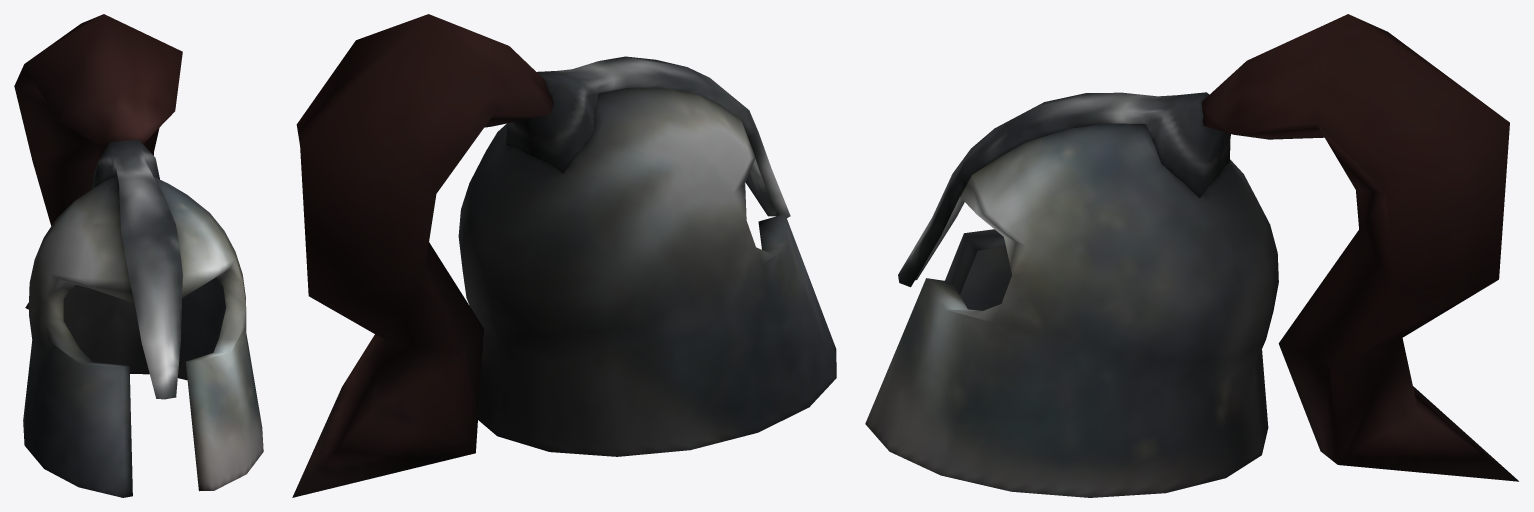
File: helm 2.fbx
3 renders of one model, left to right at view 1: azimuth 30°, elevation 25°; view 2: azimuth 150°, elevation 25°; view 3: azimuth 270°, elevation 25°, orthographic. The views are drawn at different scales.
Visible parts, largest first — view 1: Front_table.001; view 2: Front_table.001; view 3: Front_table.001.
Boxes of the visible parts, x1,y1,x2,y2 form: Front_table.001: (14, 14, 263, 497); Front_table.001: (292, 14, 836, 497); Front_table.001: (865, 14, 1518, 497).
Bounding box in the file's own units: 0.4872 × 0.6181 × 0.7939.
